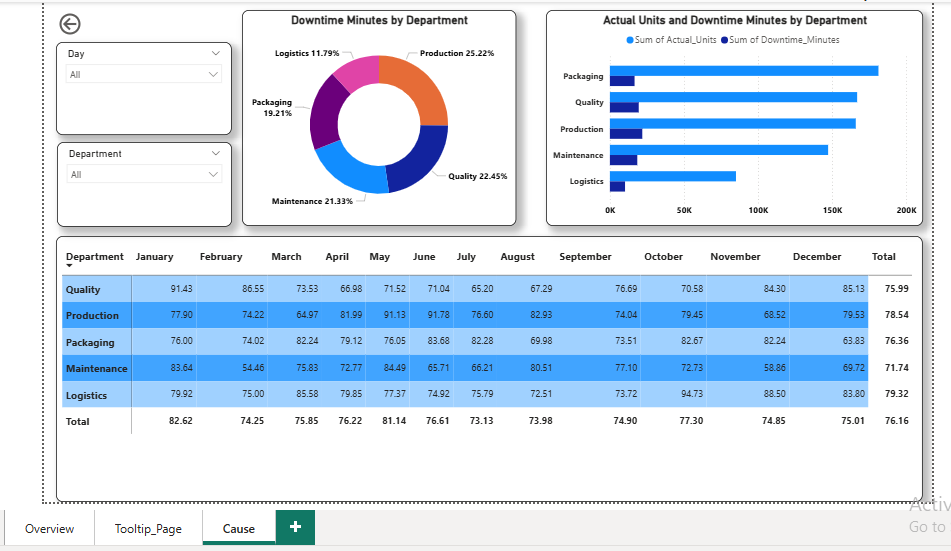

What the dashboard file says about the page in this screenshot:
{"tool":"powerbi","page":{"name":"Cause","canvas":[1280,720],"ordinal":2},"visuals":[{"type":"donutChart","title":"Downtime Minutes by Department","fields":{"Category":["PowerBi_Cleaned.Department"],"Y":["Sum(PowerBi_Cleaned.Downtime_Minutes)"]},"box":[285.1,11.5,394.6,311],"z":0},{"type":"pivotTable","fields":{"Rows":["PowerBi_Cleaned.Department"],"Columns":["PowerBi_Cleaned.Final_Date.Variation.Date Hierarchy.Month"],"Values":["PowerBi_Cleaned.AvgOEE"]},"box":[17.3,337,1248.5,383],"z":1000},{"type":"clusteredBarChart","title":"Actual Units and Downtime Minutes by Department","fields":{"Category":["PowerBi_Cleaned.Department"],"Y":["Sum(PowerBi_Cleaned.Actual_Units)","Sum(PowerBi_Cleaned.Downtime_Minutes)"]},"box":[722.9,11.5,542.9,311],"z":2000},{"type":"slicer","fields":{"Values":["PowerBi_Cleaned.Final_Date.Variation.Date Hierarchy.Day"]},"box":[17.3,57.6,253.4,133.9],"z":3000},{"type":"actionButton","box":[17.3,11.5,49,40.3],"z":4000},{"type":"slicer","fields":{"Values":["PowerBi_Cleaned.Department"]},"box":[18,202,252,122],"z":5000}]}

Visuals, with their boxes on the page's 1280x720 design canvas (x1, y1, x2, y2). These are canvas units, not pixel positions in the 951x551 screenshot, which may show the page scaled, cropped or inside an application window:
"Downtime Minutes by Department" donutChart: Rect(285, 12, 680, 322)
pivotTable - PowerBi_Cleaned.Department x PowerBi_Cleaned.Final_Date.Variation.Date Hierarchy.Month: Rect(17, 337, 1266, 720)
"Actual Units and Downtime Minutes by Department" clusteredBarChart: Rect(723, 12, 1266, 322)
slicer - PowerBi_Cleaned.Final_Date.Variation.Date Hierarchy.Day: Rect(17, 58, 271, 192)
actionButton: Rect(17, 12, 66, 52)
slicer - PowerBi_Cleaned.Department: Rect(18, 202, 270, 324)
